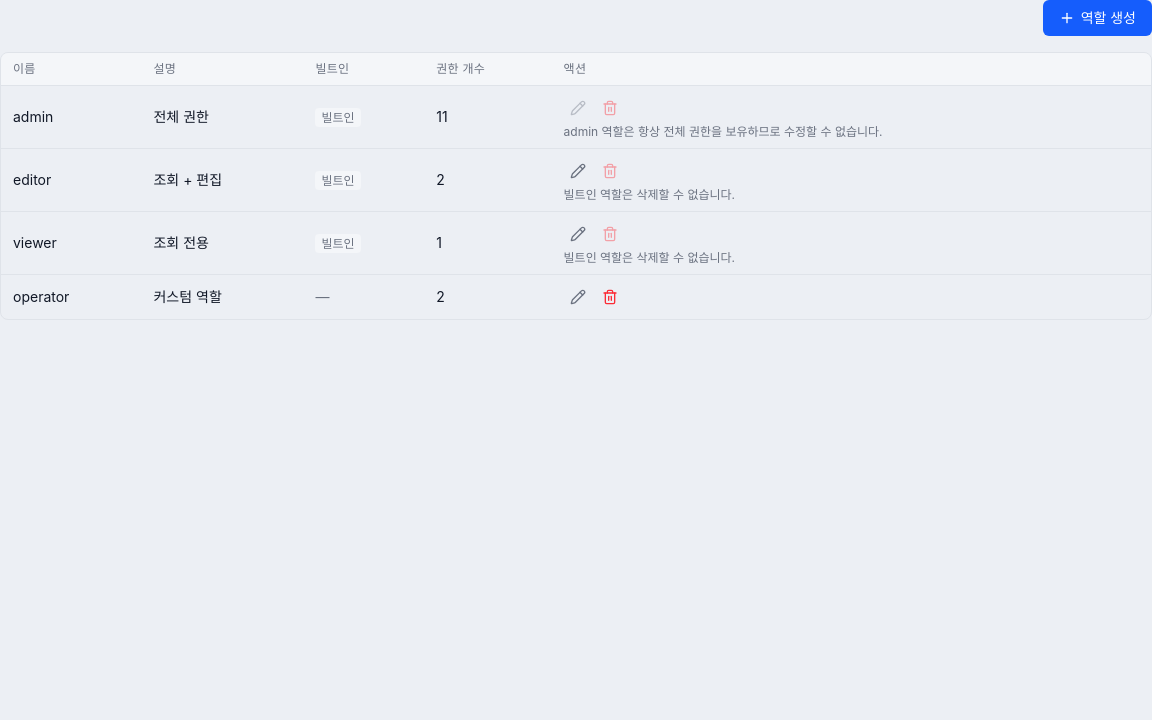
Test case: RolesPanel 수정 (AC-04) › 기존 권한을 체크 상태로 불러온다
Expected: the row with test id "admin-role-row-operator" is shown, [1,274,1151,319]
Click the button named "수정 operator" at (578, 297), box [564,283,592,311]
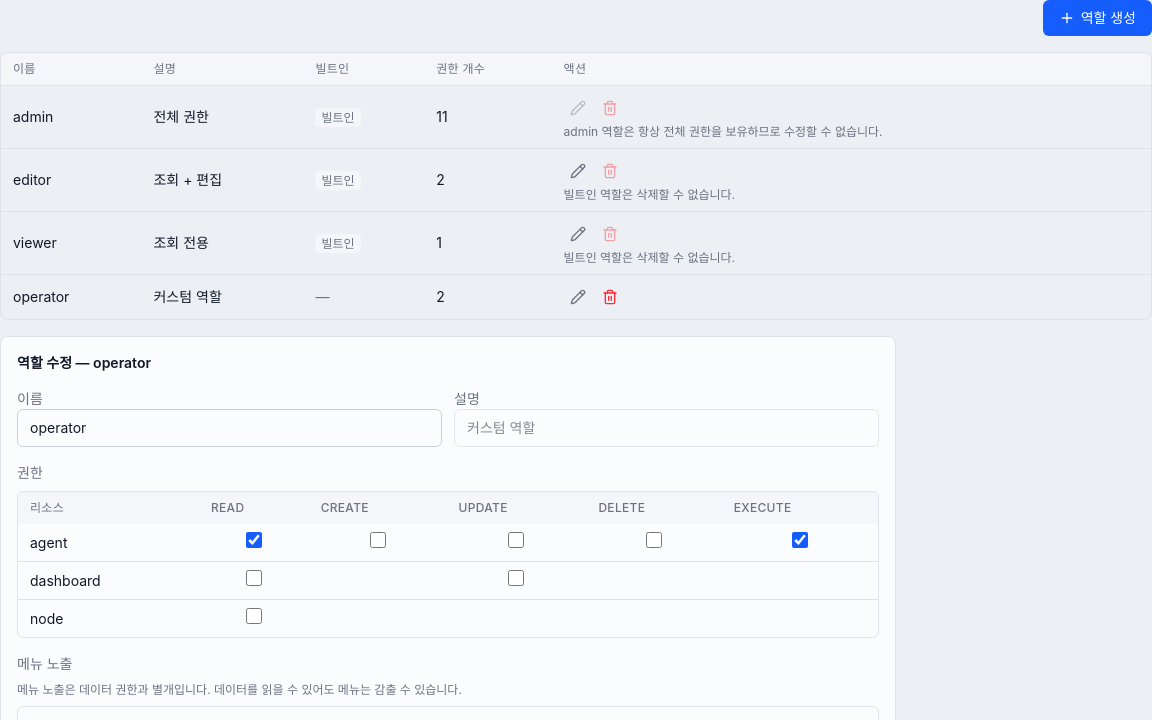
Expected: the table with test id "permission-matrix" is shown, [18,492,878,637]
Expected: the checkbox named "agent.read" is checked, [246,532,262,548]
Expected: the checkbox named "agent.execute" is checked, [792,532,808,548]
